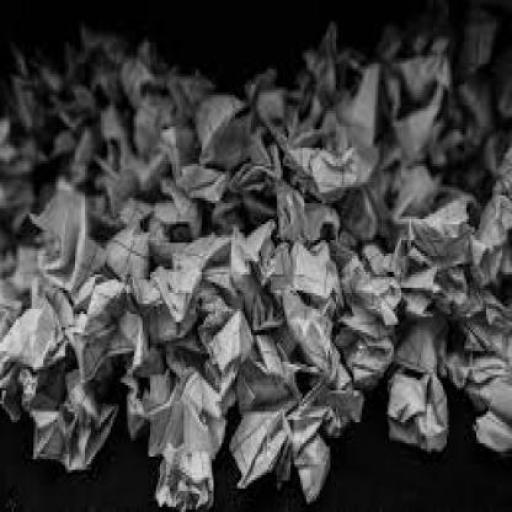paper: (208, 214, 282, 330), (2, 296, 71, 417), (34, 374, 119, 470), (150, 352, 235, 446), (409, 198, 481, 307), (290, 121, 370, 216), (318, 63, 387, 167), (69, 278, 143, 372), (156, 396, 218, 504), (34, 190, 99, 290), (134, 66, 208, 153), (2, 59, 57, 174), (460, 178, 511, 302), (384, 56, 450, 150), (280, 198, 340, 298), (283, 269, 342, 370), (229, 399, 293, 491), (193, 82, 257, 174), (368, 151, 443, 227), (89, 116, 150, 206), (140, 254, 206, 337), (77, 30, 146, 108), (348, 246, 405, 340), (199, 296, 255, 391), (453, 284, 511, 373), (293, 398, 342, 502), (239, 328, 300, 408), (300, 348, 360, 425), (460, 369, 511, 458), (150, 183, 204, 266), (237, 137, 298, 209), (391, 370, 445, 446), (398, 303, 454, 375), (251, 71, 313, 135), (51, 113, 105, 177), (103, 211, 152, 280), (340, 316, 387, 386)
